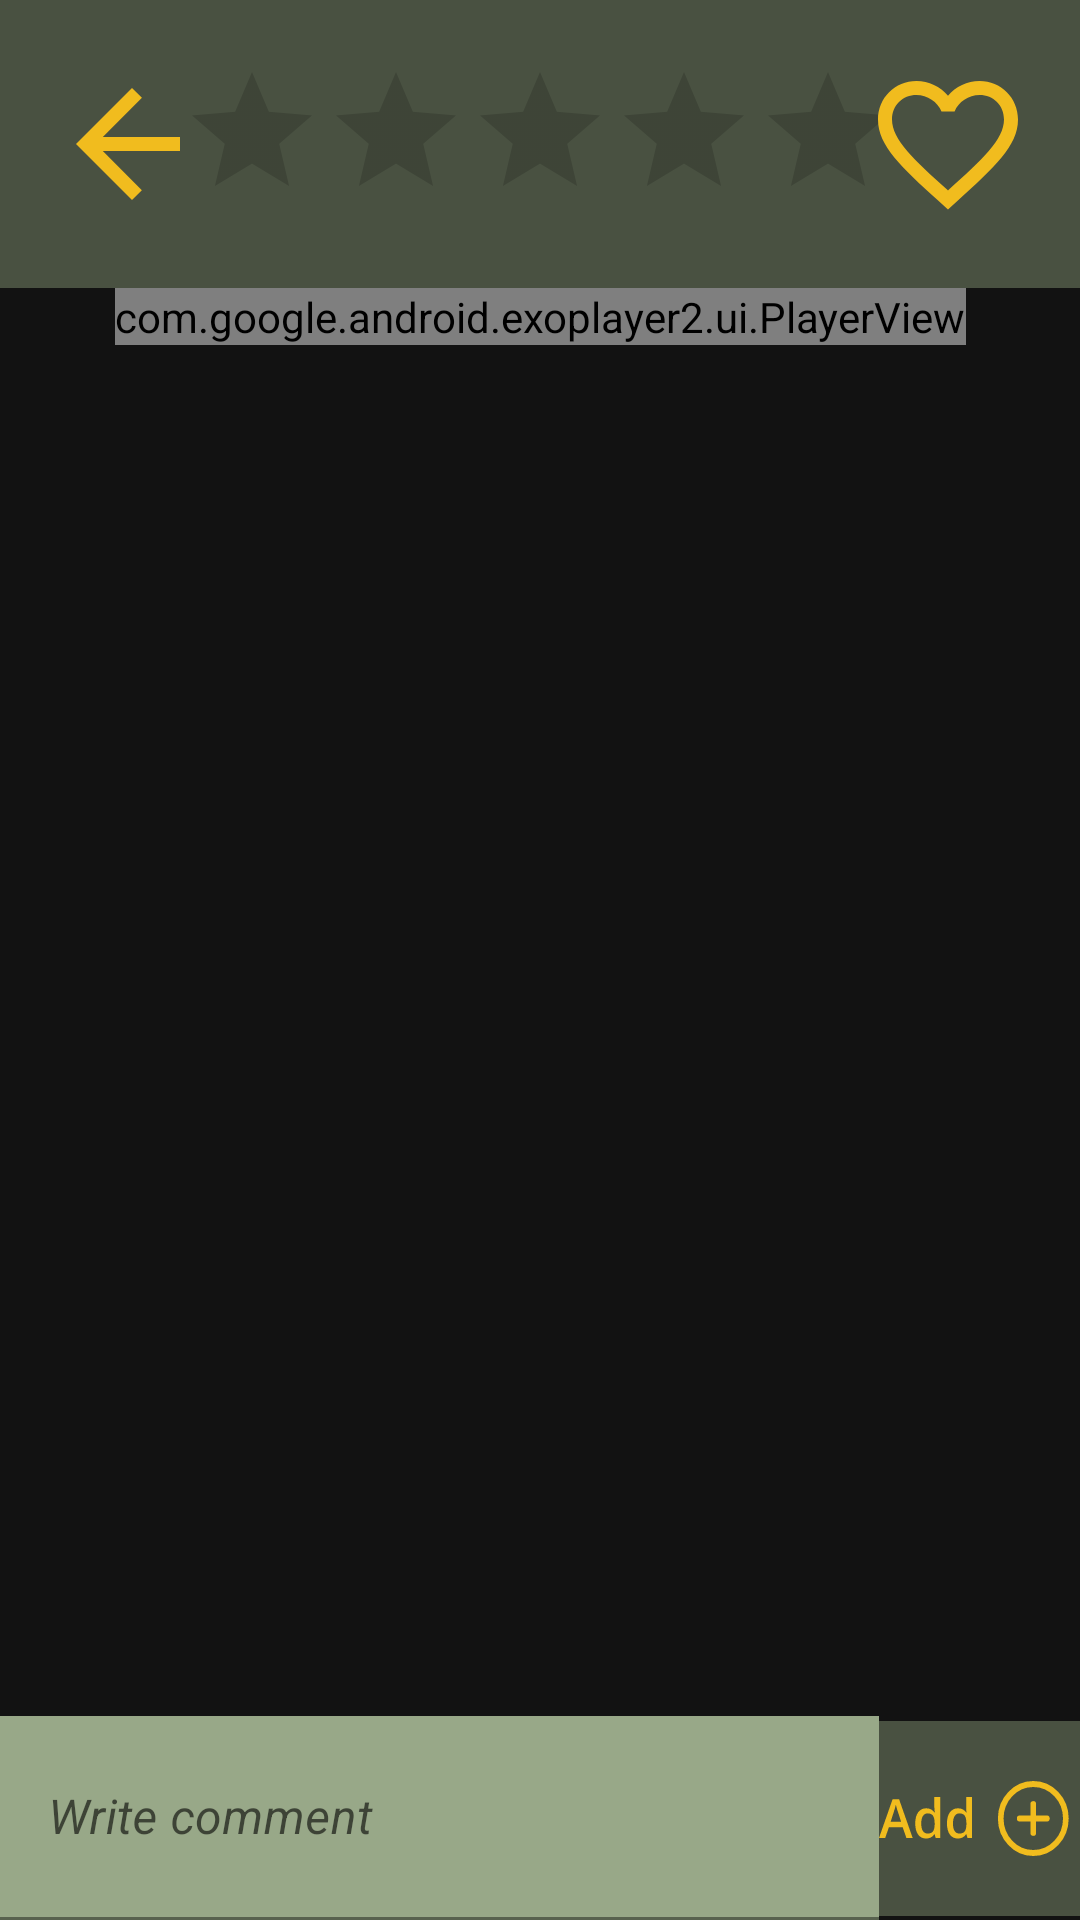

Point at icon controls on the screen. Image size 1080x1920, points as point (x, y).
back arrow: point (128, 144)
empty heart: point (948, 145)
